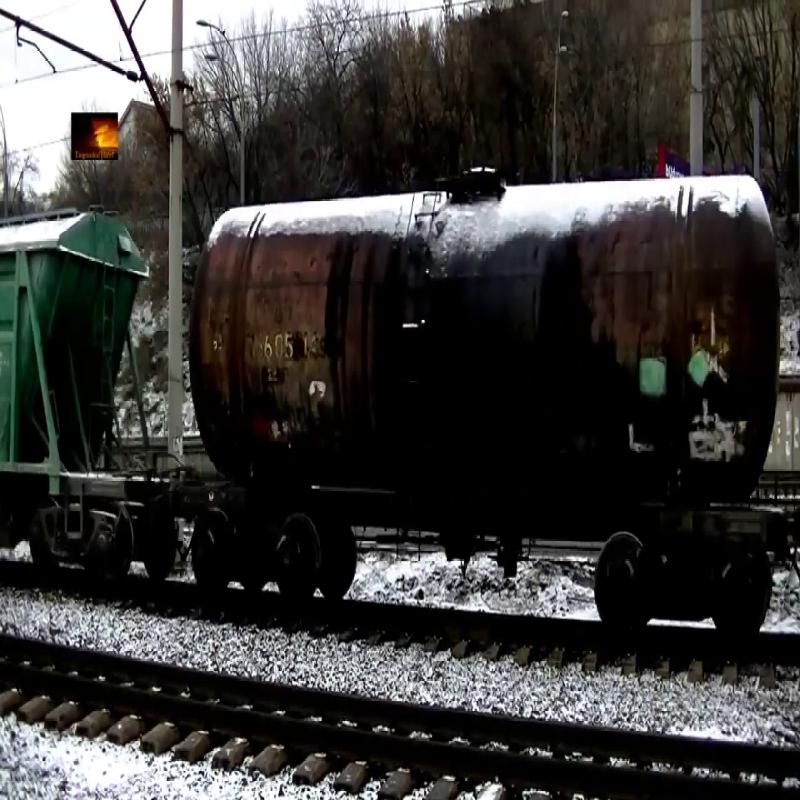train: (187, 155, 783, 524), (1, 201, 155, 534)
